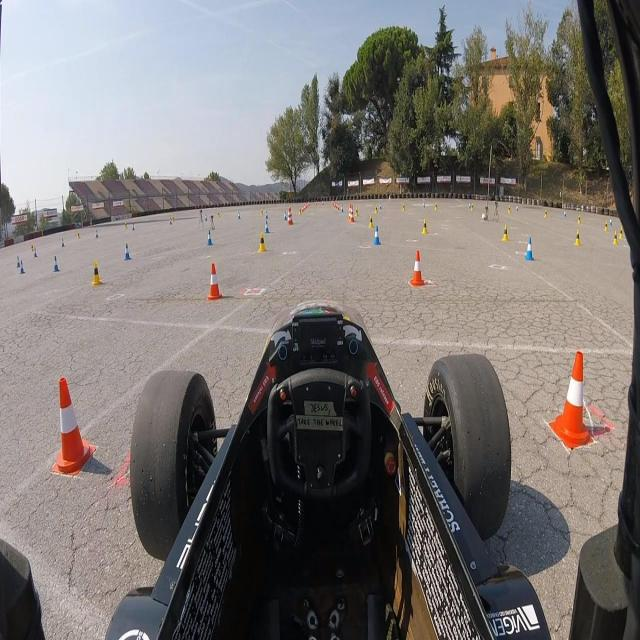blue_cone: (526, 237, 534, 261), (374, 226, 381, 246), (125, 242, 132, 260), (207, 230, 213, 246), (54, 256, 60, 272), (264, 220, 270, 235), (20, 261, 24, 275), (61, 238, 66, 248), (16, 256, 20, 268), (609, 218, 613, 228), (284, 211, 287, 222), (341, 204, 344, 214), (422, 203, 426, 210), (563, 210, 567, 217), (516, 205, 520, 212), (265, 211, 268, 219), (132, 224, 135, 232), (95, 230, 98, 238), (169, 218, 172, 226), (205, 214, 208, 222), (379, 203, 382, 211), (468, 202, 471, 210), (238, 211, 240, 219)
large_orange_cone: (350, 205, 354, 222), (288, 208, 291, 225), (349, 204, 351, 222), (290, 207, 292, 224)
orange_cone: (54, 374, 97, 481), (554, 351, 592, 453), (410, 250, 427, 290), (208, 263, 222, 303), (302, 205, 304, 211), (338, 204, 340, 210), (336, 203, 338, 209), (334, 202, 336, 208), (305, 204, 307, 208), (304, 204, 305, 210), (308, 202, 310, 205), (333, 201, 334, 206), (307, 203, 308, 207), (332, 200, 332, 205)
yellow_cone: (90, 262, 102, 288), (259, 231, 265, 253), (422, 218, 428, 234), (503, 223, 508, 242), (576, 228, 581, 246), (613, 231, 618, 246), (369, 215, 374, 229), (619, 227, 623, 240), (604, 220, 608, 232), (577, 214, 581, 225), (356, 207, 360, 217), (544, 209, 548, 219), (124, 222, 128, 231), (30, 244, 34, 252), (375, 204, 378, 214), (508, 204, 511, 214), (260, 209, 264, 216), (402, 204, 405, 212), (435, 202, 438, 210), (217, 212, 220, 219), (77, 232, 80, 239), (172, 216, 175, 223), (299, 207, 301, 216), (472, 204, 474, 211)
